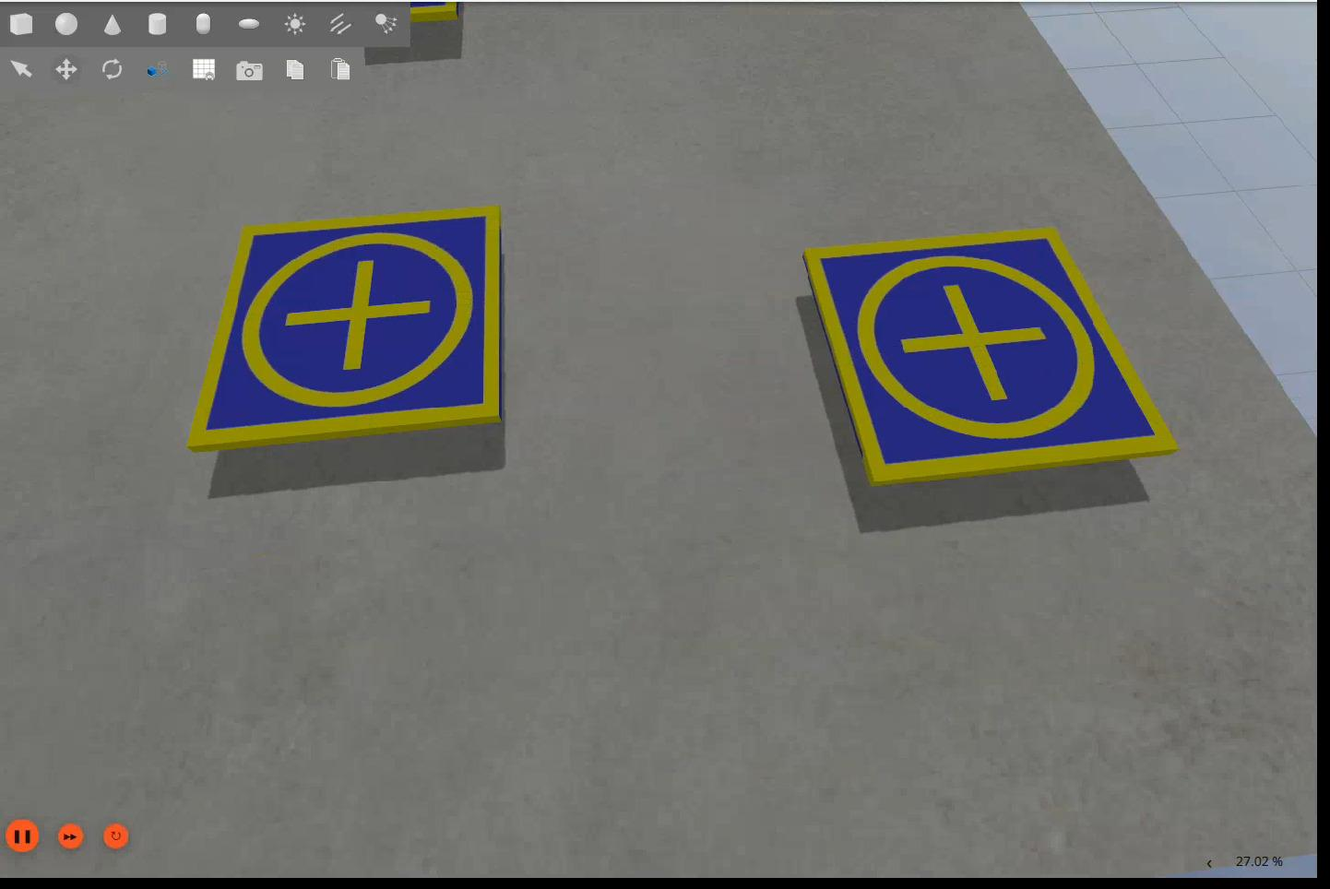small_base: (805, 231, 1181, 498), (192, 203, 510, 453)
